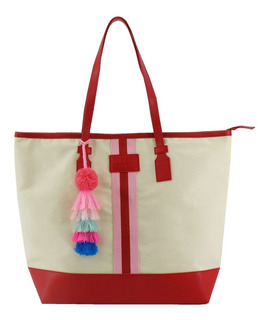cartera: (12, 15, 257, 306)
